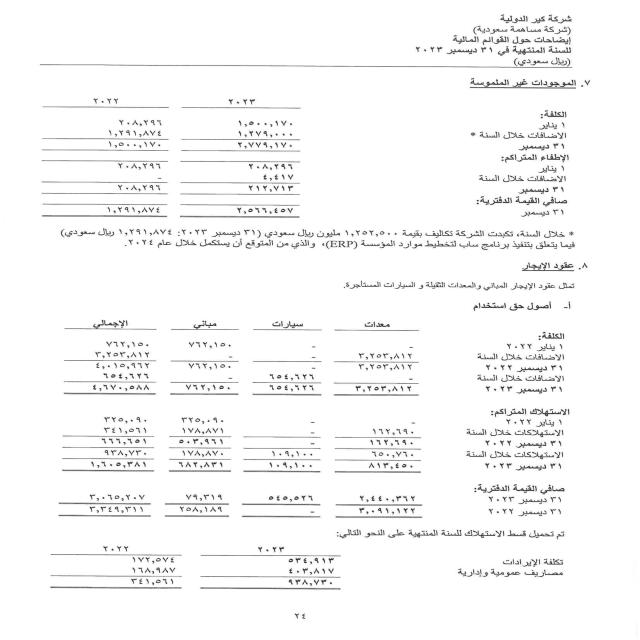notes: (449, 36, 574, 44)
table: (42, 409, 451, 526), (21, 86, 322, 225), (43, 315, 443, 400), (27, 537, 357, 598)
